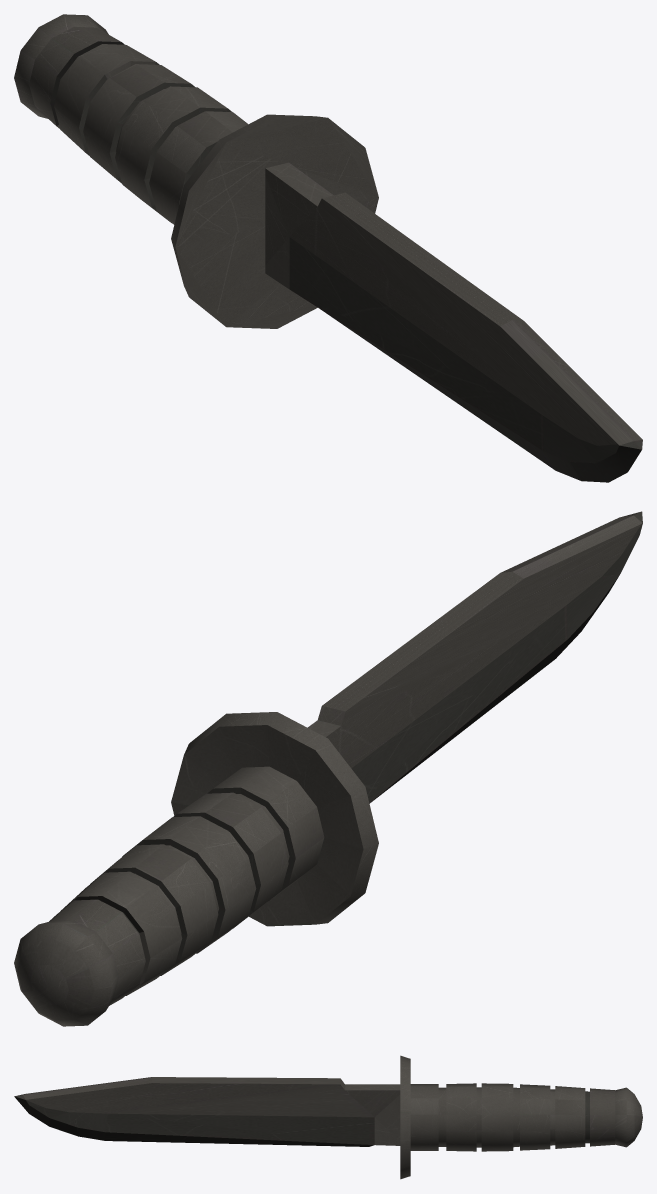
Rendered from knife.fbx.
3 views of the same model, one above another, from view 1: azimuth 30°, elevation 25°; view 2: azimuth 150°, elevation 25°; view 3: azimuth 270°, elevation 25° (orthographic). The views are drawn at different scales.
Visible parts, largest first — view 1: Knife; view 2: Knife; view 3: Knife.
Boxes of the visible parts, x1,y1,x2,y2 form: Knife: (14,14,642,482); Knife: (14,511,642,1026); Knife: (14,1055,642,1179).
Bounding box in the file's own units: 94.79 × 94.79 × 479.
